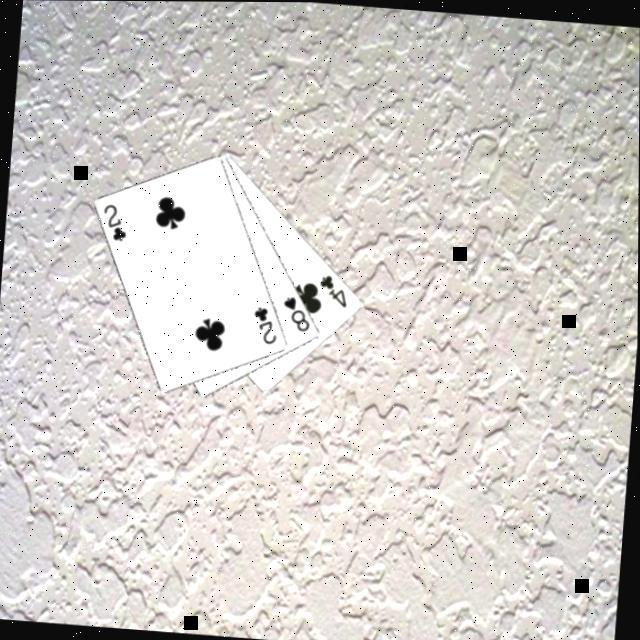2C: (99, 201, 132, 245), (250, 304, 282, 348)
4C: (316, 270, 352, 310)
8S: (278, 292, 316, 334)
